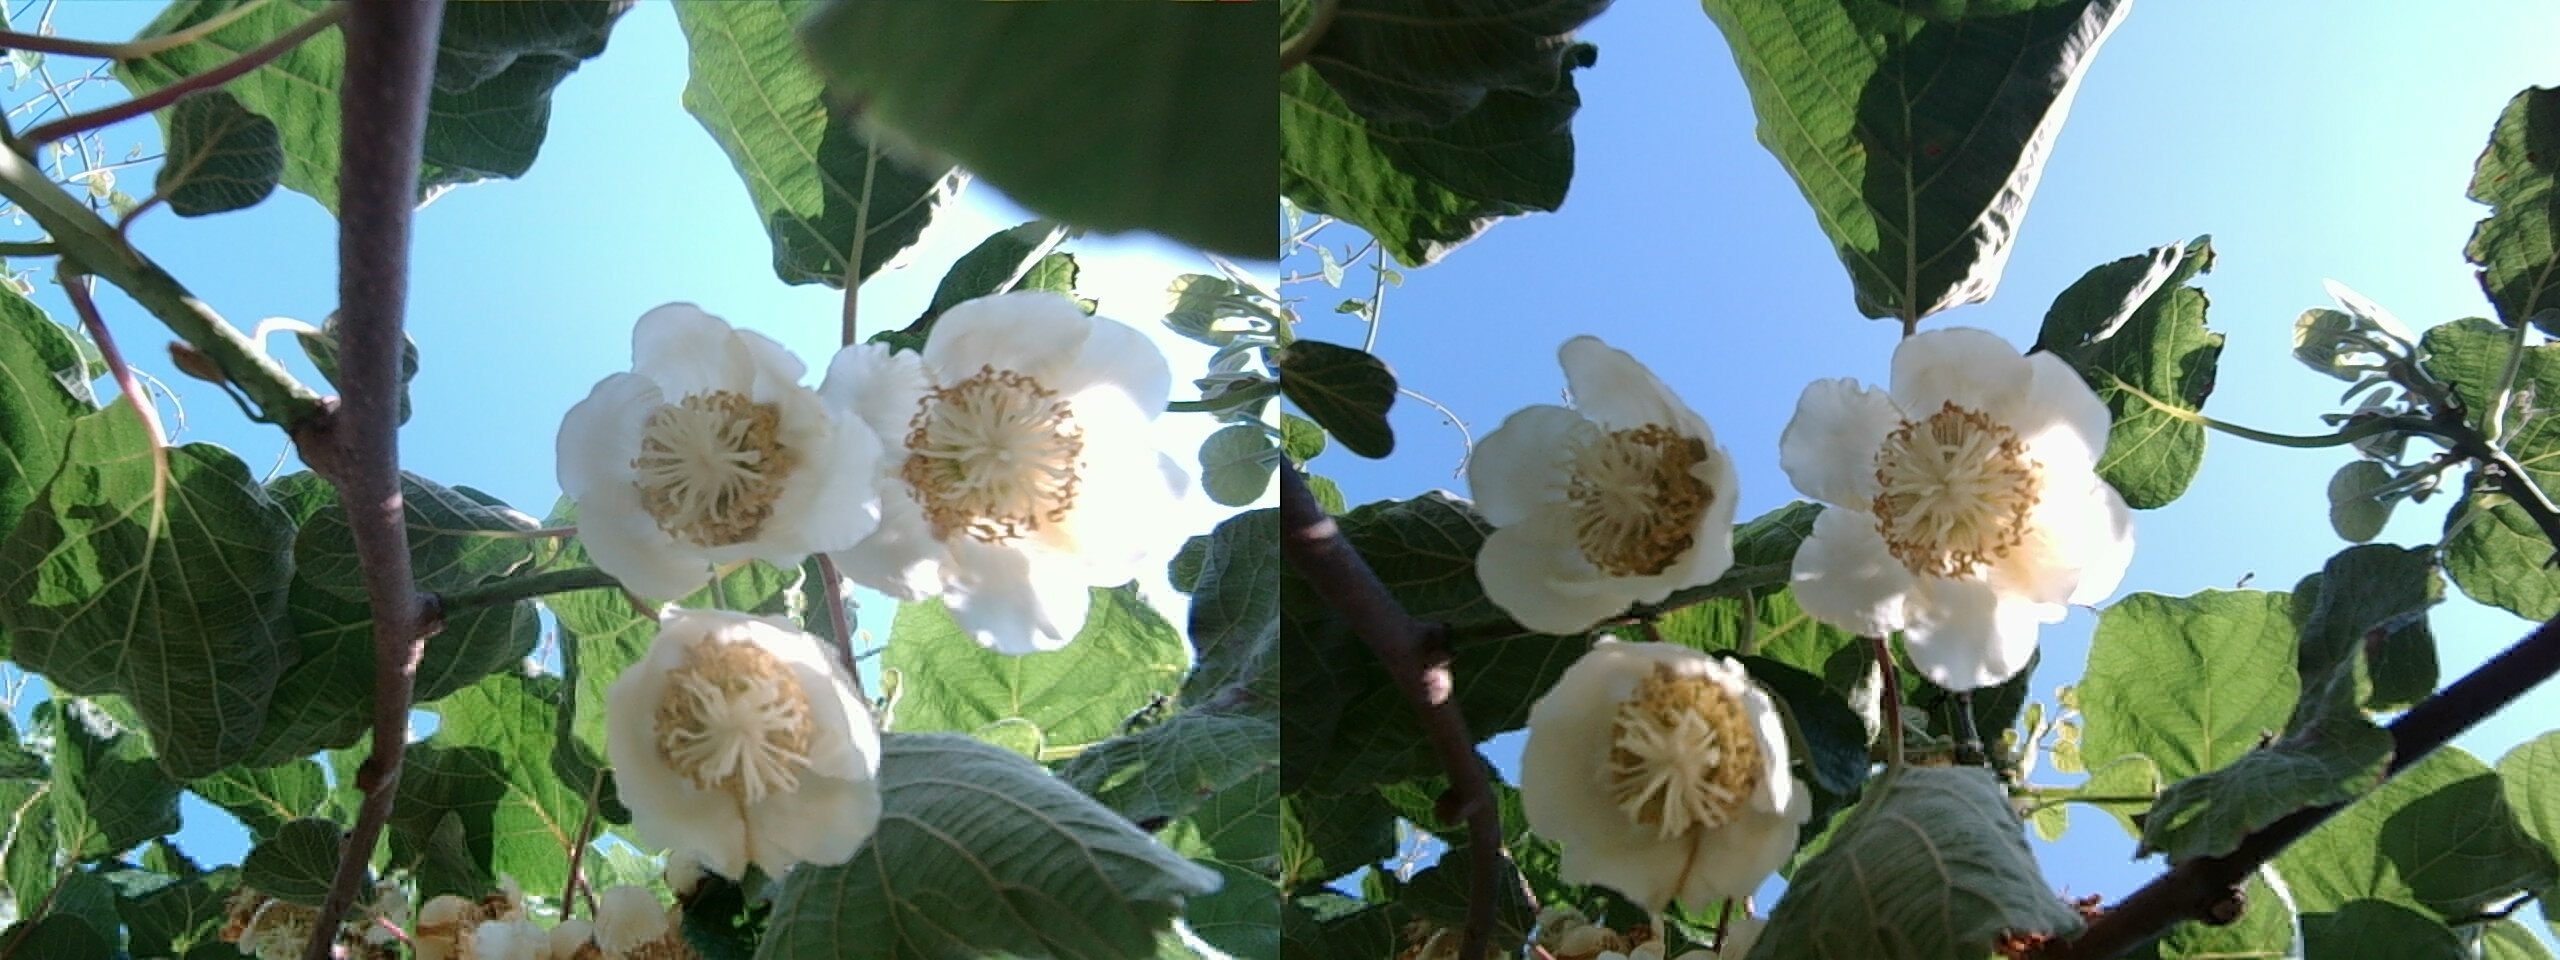flower: (1793, 327, 2122, 664), (865, 292, 1149, 607), (567, 305, 867, 589), (1520, 632, 1793, 914), (602, 602, 872, 878), (1481, 338, 1731, 616)
